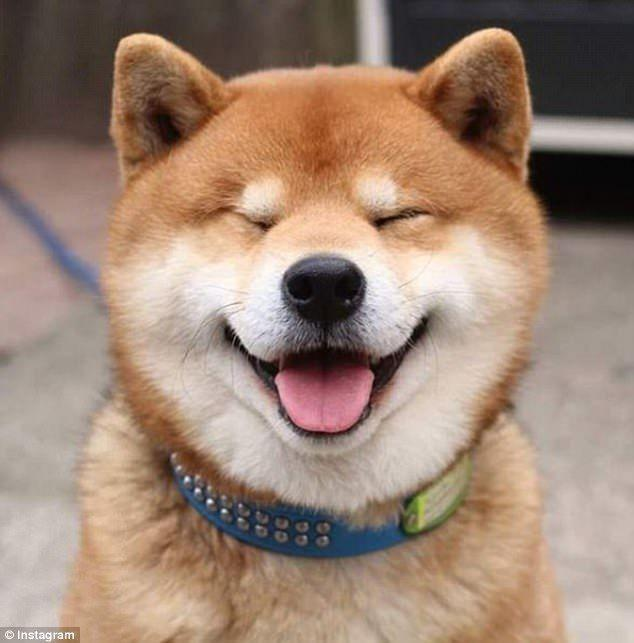adult_dog: (62, 29, 569, 643)
